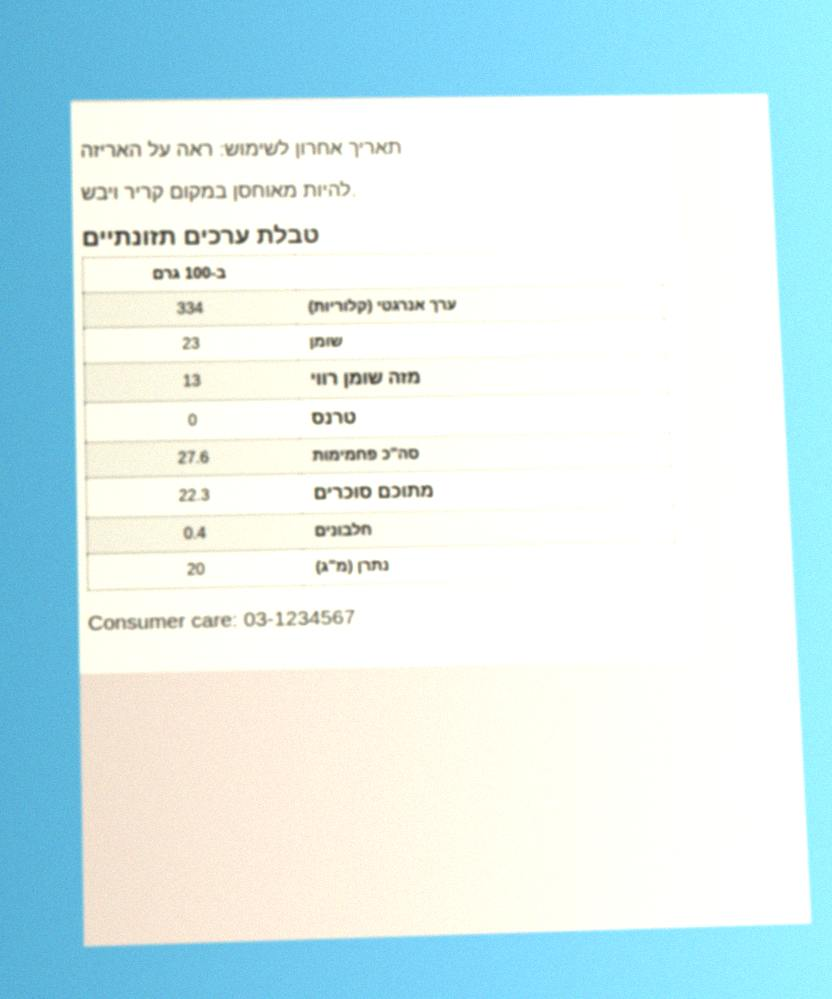carbs: (176, 447, 211, 468)
energy: (175, 298, 205, 319)
fat: (180, 333, 202, 354)
protein: (182, 523, 208, 544)
